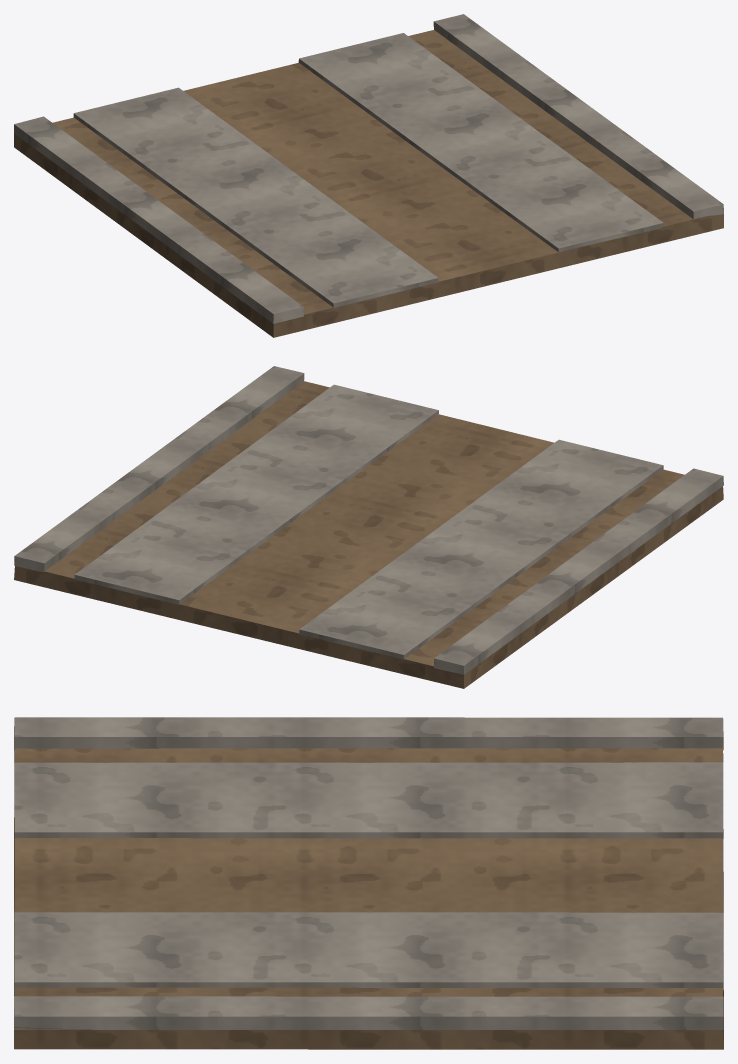
Rendered from road_tile.glb.
3 views of the same model, one above another, from view 1: azimuth 30°, elevation 25°; view 2: azimuth 150°, elevation 25°; view 3: azimuth 270°, elevation 25° (orthographic). The views are drawn at different scales.
Visible parts, largest first — view 1: RoadTile; view 2: RoadTile; view 3: RoadTile.
Part boxes in pixels (<box>): RoadTile: <box>14,14,723,337</box>; RoadTile: <box>14,366,723,688</box>; RoadTile: <box>14,717,723,1049</box>.
Size of the model in its own units: 1.68 by 0.0862 by 1.68.
2 materials, 2 textured.
